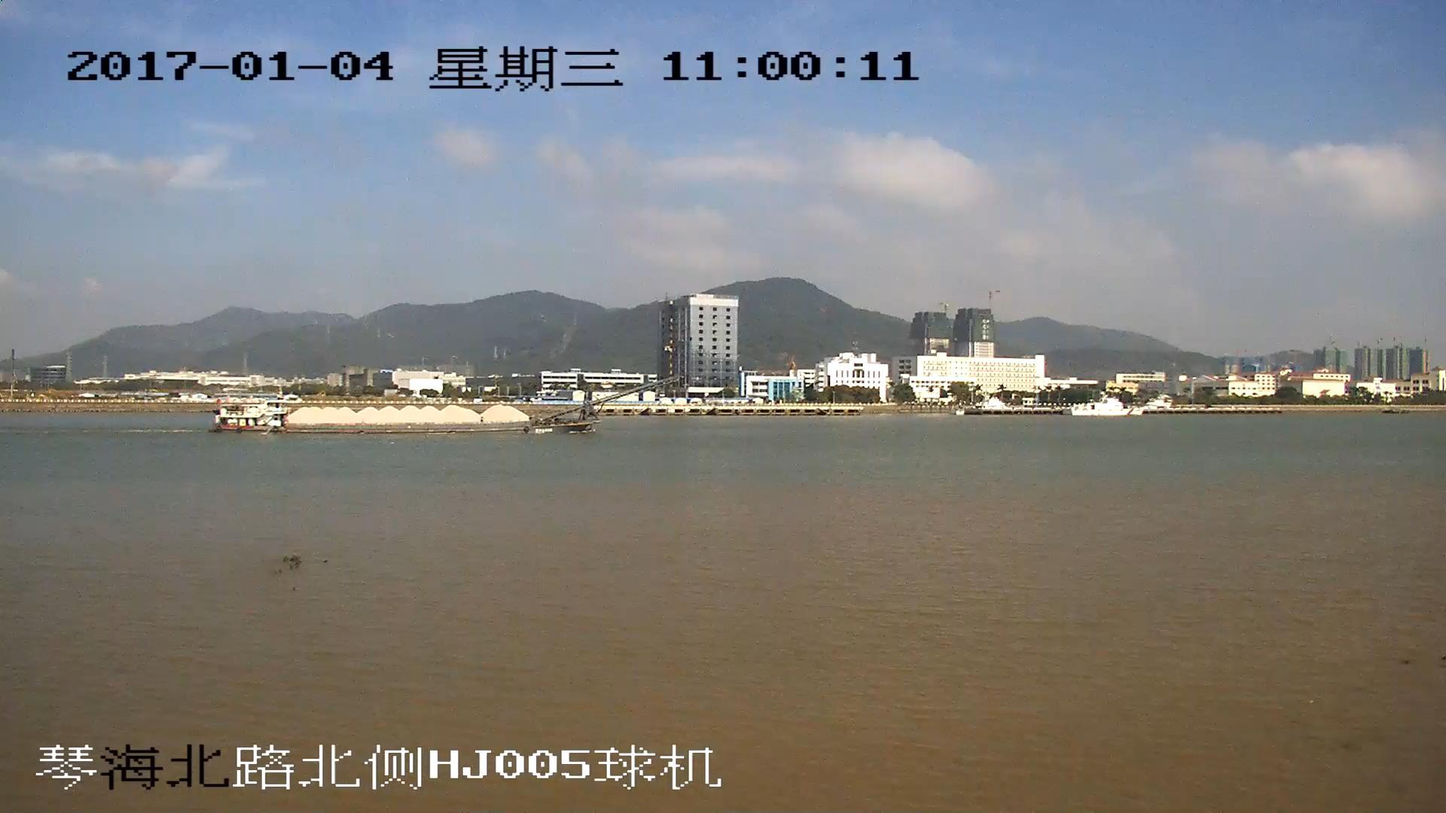ore carrier: (218, 376, 675, 434)
